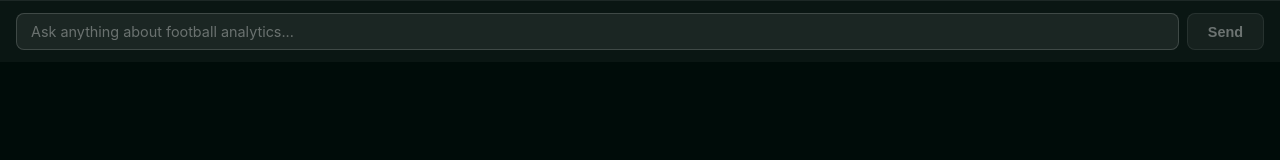
Test: ChatInput › shows character count when typing
Step 1. Type "hello" into the field named "Query input" → {"x": 597, "y": 32}, box top-left (16, 13), bottom-right (1179, 50)
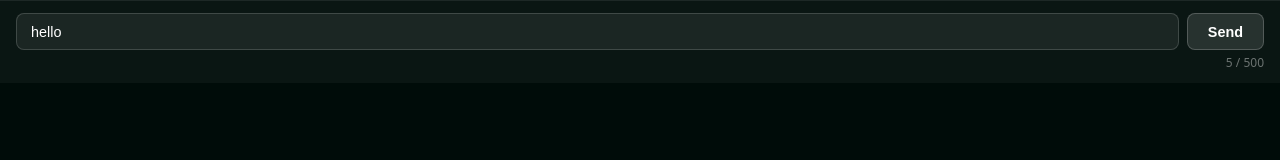
Result: the text "5 / 500" is shown at top-left (1226, 54), bottom-right (1264, 71)
